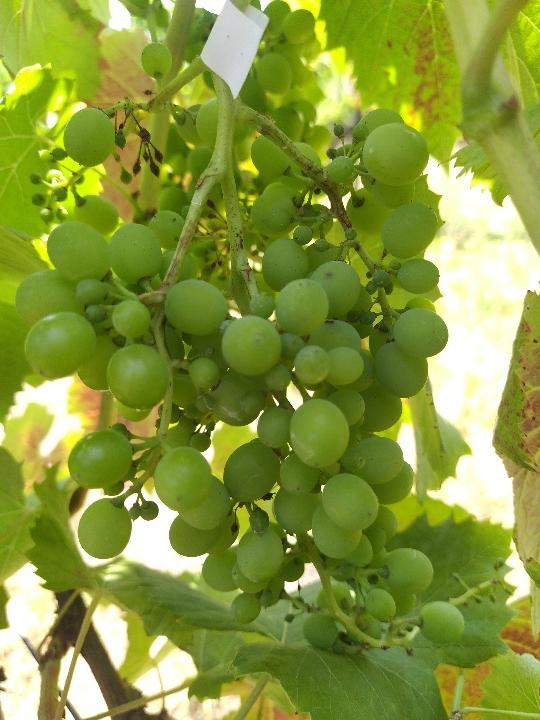grape: (15, 37, 471, 668)
